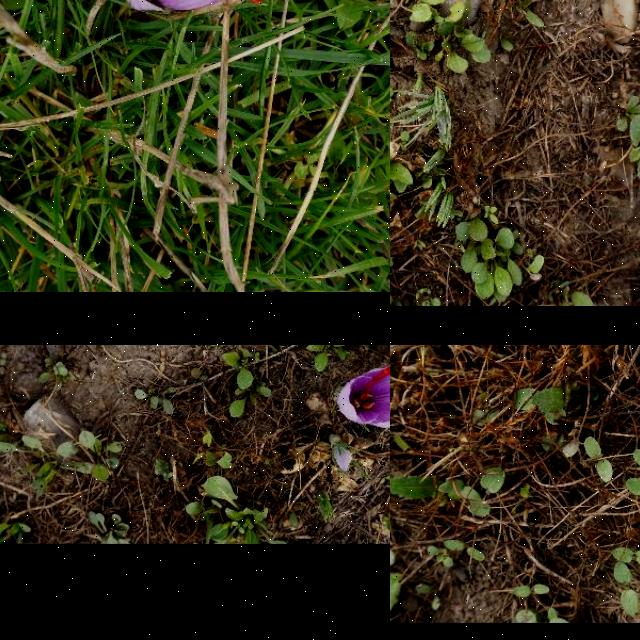flower: (338, 365, 390, 429)
